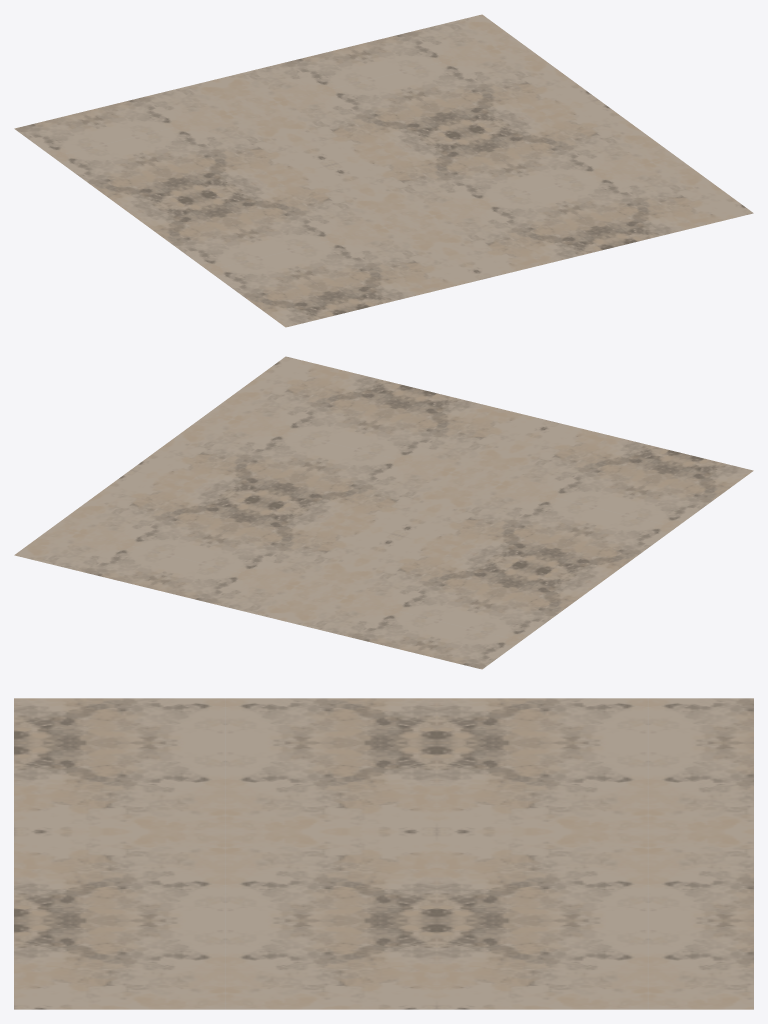
File: Killhouse Floor.fbx
3 views of the same model, one above another, from view 1: azimuth 30°, elevation 25°; view 2: azimuth 150°, elevation 25°; view 3: azimuth 270°, elevation 25° (orthographic). The views are drawn at different scales.
Visible parts, largest first — view 1: Warehouse Floor.001; view 2: Warehouse Floor.001; view 3: Warehouse Floor.001.
Boxes of the visible parts, <box> form: Warehouse Floor.001: <box>14,14,753,327</box>; Warehouse Floor.001: <box>14,356,753,669</box>; Warehouse Floor.001: <box>14,698,753,1009</box>.
Size of the model in its own units: 3824 by 0 by 3844.
